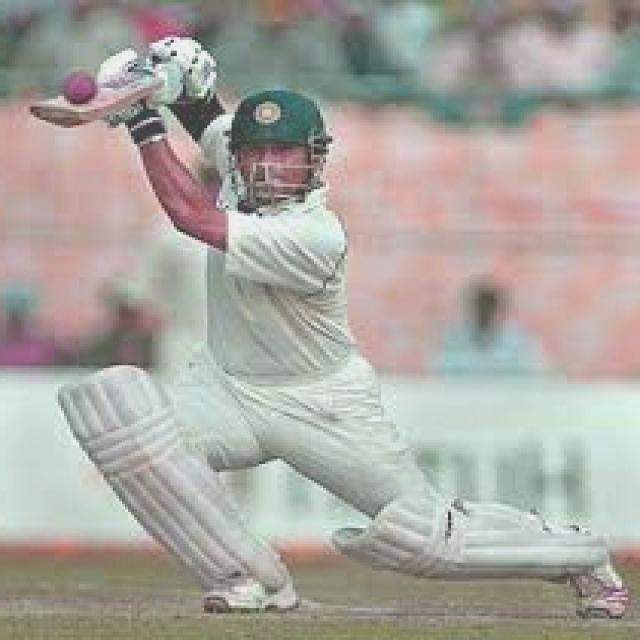bat: (29, 64, 154, 131)
toe: (31, 106, 85, 126)
